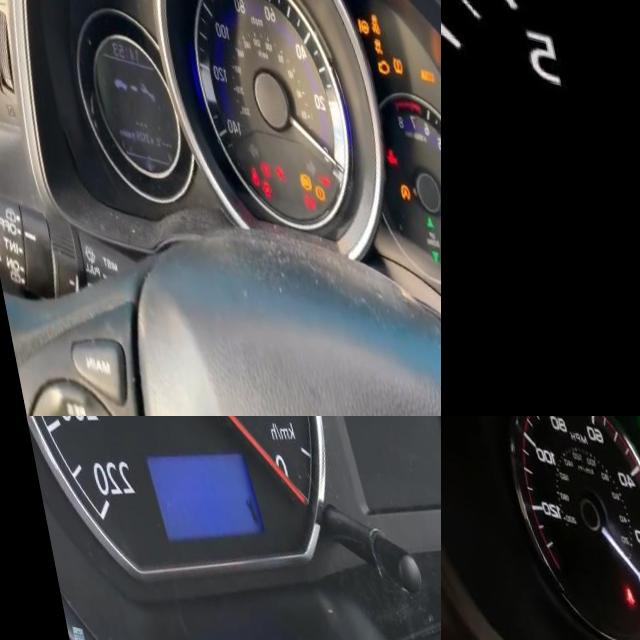Engine cooling system: (378, 123, 390, 142)
